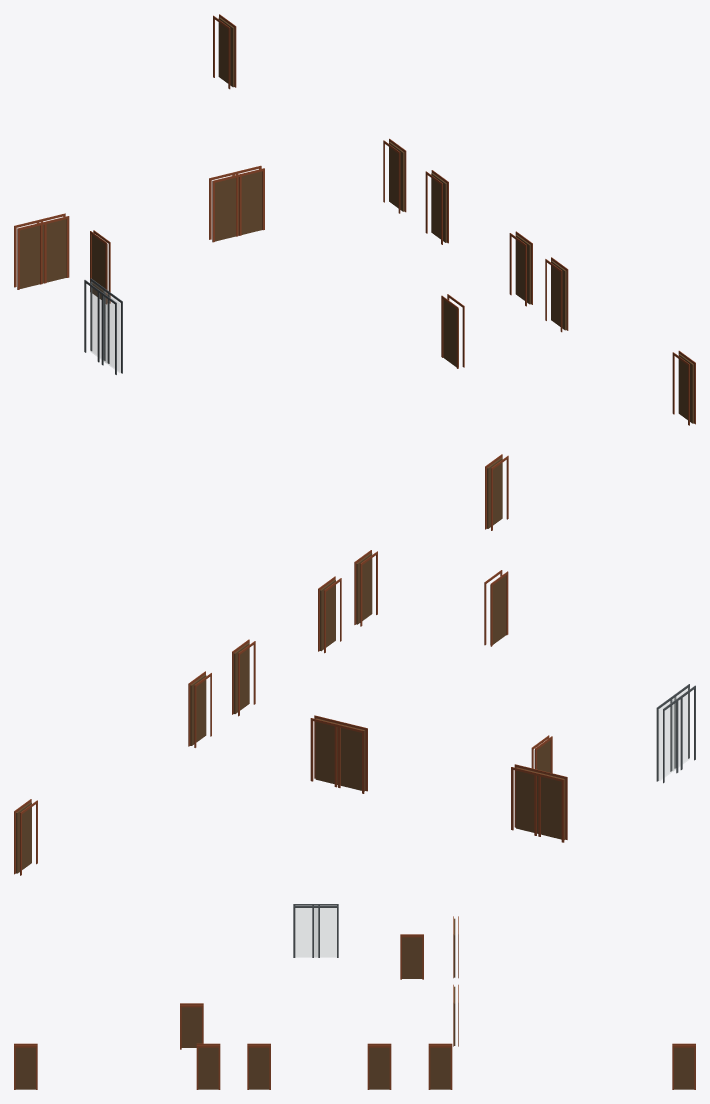
Rendered from insaat_revit.ifc.ifc.ifc_93.5 Derslikler (B)_IfcDoor.dae.
The picture shows the model from 3 angles, top to bottom: view 1: azimuth 30°, elevation 25°; view 2: azimuth 150°, elevation 25°; view 3: azimuth 270°, elevation 25°; orthographic projection. The views are drawn at different scales.
Visible parts, largest first — view 1: 1iMPAZ1gH62xJjAoXoY1TF, 1iMPAZ1gH62xJjAoXoY1T2, 1iMPAZ1gH62xJjAoXoY1T1, 1iMPAZ1gH62xJjAoXoY1TE, 1iMPAZ1gH62xJjAoXoY1TN, 1iMPAZ1gH62xJjAoXoY1T8, 1iMPAZ1gH62xJjAoXoY1T9, 1iMPAZ1gH62xJjAoXoY123, 1iMPAZ1gH62xJjAoXoY124, 1iMPAZ1gH62xJjAoXoY127, 1iMPAZ1gH62xJjAoXoY126, 1iMPAZ1gH62xJjAoXoY125 (+2 smaller); view 2: 1iMPAZ1gH62xJjAoXoY1TF, 1iMPAZ1gH62xJjAoXoY1T2, 1iMPAZ1gH62xJjAoXoY1TE, 1iMPAZ1gH62xJjAoXoY1T1, 1iMPAZ1gH62xJjAoXoY1T8, 1iMPAZ1gH62xJjAoXoY1TN, 1iMPAZ1gH62xJjAoXoY1T9, 1iMPAZ1gH62xJjAoXoY124, 1iMPAZ1gH62xJjAoXoY125, 1iMPAZ1gH62xJjAoXoY127, 1iMPAZ1gH62xJjAoXoY1Tu, 1iMPAZ1gH62xJjAoXoY123 (+2 smaller); view 3: 1iMPAZ1gH62xJjAoXoY1TN, 1iMPAZ1gH62xJjAoXoY1T8, 1iMPAZ1gH62xJjAoXoY125, 1iMPAZ1gH62xJjAoXoY127, 1iMPAZ1gH62xJjAoXoY1Tu, 1iMPAZ1gH62xJjAoXoY123, 1iMPAZ1gH62xJjAoXoY124, 1iMPAZ1gH62xJjAoXoY126, 1iMPAZ1gH62xJjAoXoY1T0, 1iMPAZ1gH62xJjAoXoY1T9.
Boxes of the visible parts, box(x1,y1,x2,y2) form: 1iMPAZ1gH62xJjAoXoY1TF: box(209, 171, 241, 242); 1iMPAZ1gH62xJjAoXoY1T2: box(14, 219, 46, 289); 1iMPAZ1gH62xJjAoXoY1T1: box(36, 213, 69, 284); 1iMPAZ1gH62xJjAoXoY1TE: box(232, 165, 264, 236); 1iMPAZ1gH62xJjAoXoY1TN: box(97, 288, 122, 374); 1iMPAZ1gH62xJjAoXoY1T8: box(84, 278, 109, 365); 1iMPAZ1gH62xJjAoXoY1T9: box(441, 294, 464, 368); 1iMPAZ1gH62xJjAoXoY123: box(213, 14, 236, 89); 1iMPAZ1gH62xJjAoXoY124: box(672, 350, 695, 425); 1iMPAZ1gH62xJjAoXoY127: box(425, 170, 448, 244); 1iMPAZ1gH62xJjAoXoY126: box(509, 231, 532, 306); 1iMPAZ1gH62xJjAoXoY125: box(545, 257, 568, 332); 1iMPAZ1gH62xJjAoXoY1TF: box(334, 721, 367, 793); 1iMPAZ1gH62xJjAoXoY1T2: box(534, 770, 567, 842); 1iMPAZ1gH62xJjAoXoY1TE: box(310, 715, 342, 787); 1iMPAZ1gH62xJjAoXoY1T1: box(511, 764, 543, 836); 1iMPAZ1gH62xJjAoXoY1T8: box(656, 694, 682, 783); 1iMPAZ1gH62xJjAoXoY1TN: box(670, 684, 695, 773); 1iMPAZ1gH62xJjAoXoY1T9: box(484, 570, 508, 646); 1iMPAZ1gH62xJjAoXoY124: box(485, 454, 508, 530); 1iMPAZ1gH62xJjAoXoY125: box(354, 550, 377, 626); 1iMPAZ1gH62xJjAoXoY127: box(232, 639, 255, 716); 1iMPAZ1gH62xJjAoXoY1Tu: box(188, 671, 211, 747); 1iMPAZ1gH62xJjAoXoY123: box(14, 799, 37, 875); 1iMPAZ1gH62xJjAoXoY1TN: box(293, 904, 319, 957); 1iMPAZ1gH62xJjAoXoY1T8: box(312, 904, 338, 957); 1iMPAZ1gH62xJjAoXoY125: box(196, 1043, 220, 1089); 1iMPAZ1gH62xJjAoXoY127: box(367, 1043, 391, 1089); 1iMPAZ1gH62xJjAoXoY1Tu: box(428, 1043, 452, 1089); 1iMPAZ1gH62xJjAoXoY123: box(672, 1043, 695, 1089); 1iMPAZ1gH62xJjAoXoY124: box(14, 1043, 37, 1089); 1iMPAZ1gH62xJjAoXoY126: box(247, 1043, 270, 1089); 1iMPAZ1gH62xJjAoXoY1T0: box(400, 934, 423, 979); 1iMPAZ1gH62xJjAoXoY1T9: box(180, 1003, 203, 1049).
Bounding box in the file's own units: 13.83 × 29.65 × 2.48.
